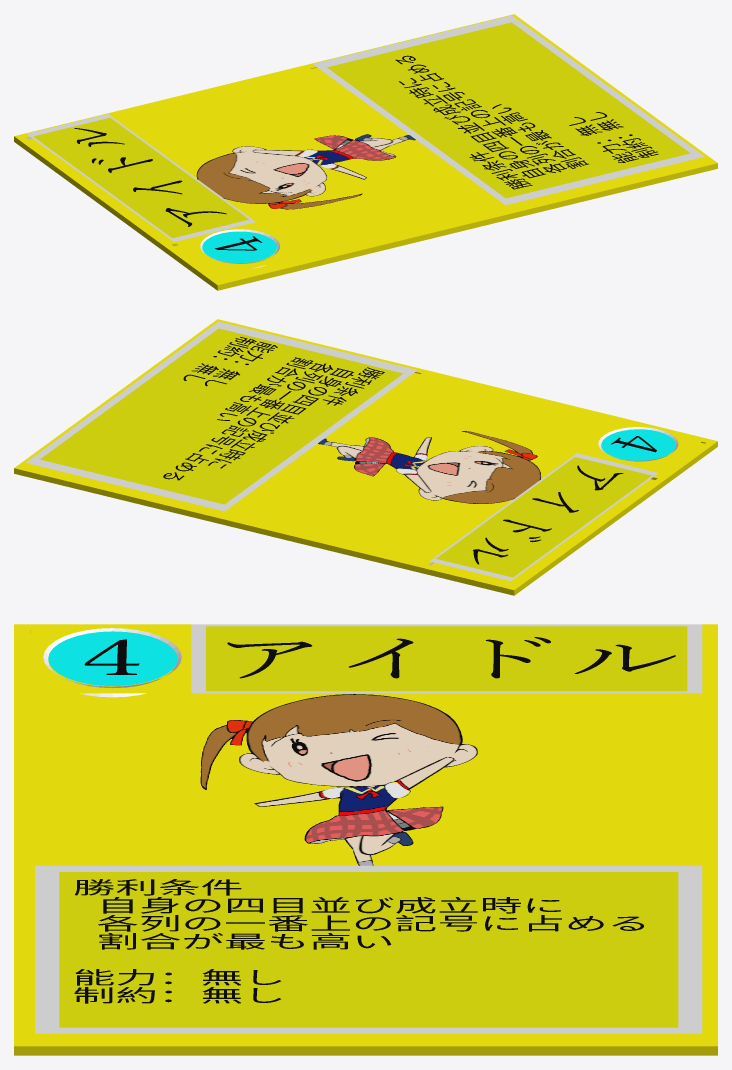
The model's file is アイドル黄.fbx.
The picture shows the model from 3 angles, top to bottom: view 1: azimuth 30°, elevation 25°; view 2: azimuth 150°, elevation 25°; view 3: azimuth 270°, elevation 25°; orthographic projection. The views are drawn at different scales.
Visible parts, largest first — view 1: カード本体.001, 説明欄, 名前欄, 平面.001, 説明文, 円, 平面, 名前; view 2: カード本体.001, 説明欄, 名前欄, 平面.001, 説明文, 円, 平面, 名前; view 3: カード本体.001, 説明欄, 名前欄, 平面.001, 説明文, 平面, 円, 名前, コスト蘭.
Part boxes in pixels (x1,y1,x2,y2): カード本体.001: (14, 14, 717, 290); 説明欄: (313, 15, 704, 205); 名前欄: (27, 114, 255, 241); 平面.001: (196, 134, 415, 209); 説明文: (395, 55, 658, 189); 円: (202, 231, 276, 262); 平面: (174, 222, 302, 275); 名前: (74, 128, 226, 226); カード本体.001: (14, 319, 717, 595); 説明欄: (26, 321, 417, 511); 名前欄: (429, 453, 658, 581); 平面.001: (318, 431, 541, 503); 説明文: (163, 337, 384, 480); 円: (601, 429, 675, 460); 平面: (577, 419, 704, 472); 名前: (473, 465, 623, 564); カード本体.001: (14, 624, 717, 1055); 説明欄: (35, 865, 702, 1033); 名前欄: (191, 624, 702, 693); 平面.001: (200, 694, 477, 865); 説明文: (74, 879, 643, 1003); 平面: (30, 624, 191, 693); 円: (48, 631, 177, 686); 名前: (227, 637, 675, 678); コスト蘭: (43, 628, 181, 697).
Bounding box in the file's own units: 281 × 6.07 × 198.
